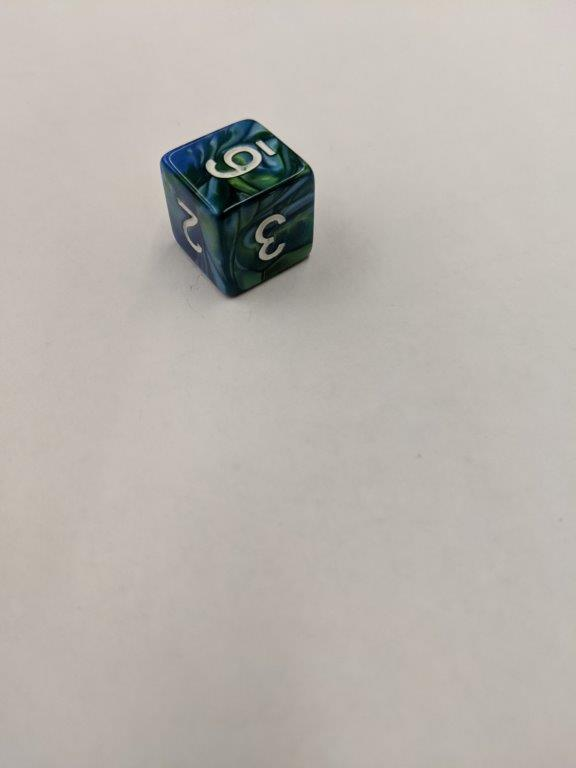d6-6: (159, 119, 315, 301)
